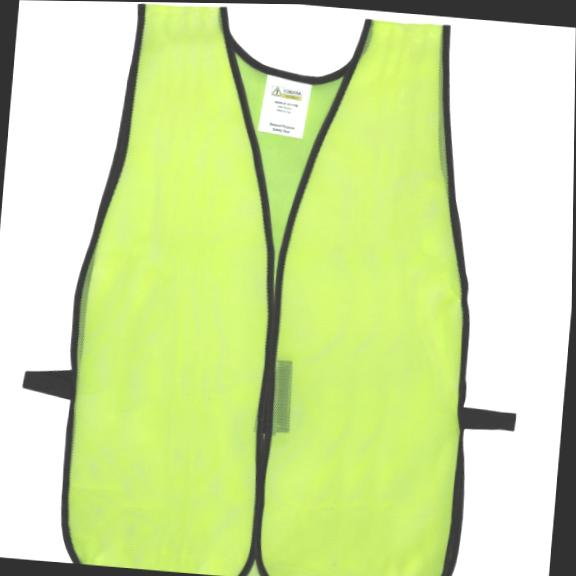safety_vest: (53, 1, 508, 576)
